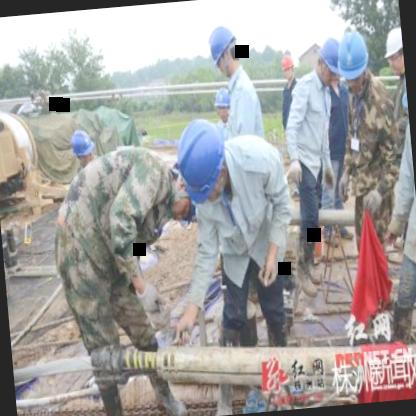helmet: (170, 115, 232, 210), (329, 24, 372, 90), (204, 20, 243, 81), (316, 35, 346, 88), (380, 22, 404, 74), (68, 128, 97, 169), (212, 86, 235, 122), (280, 50, 298, 82)
